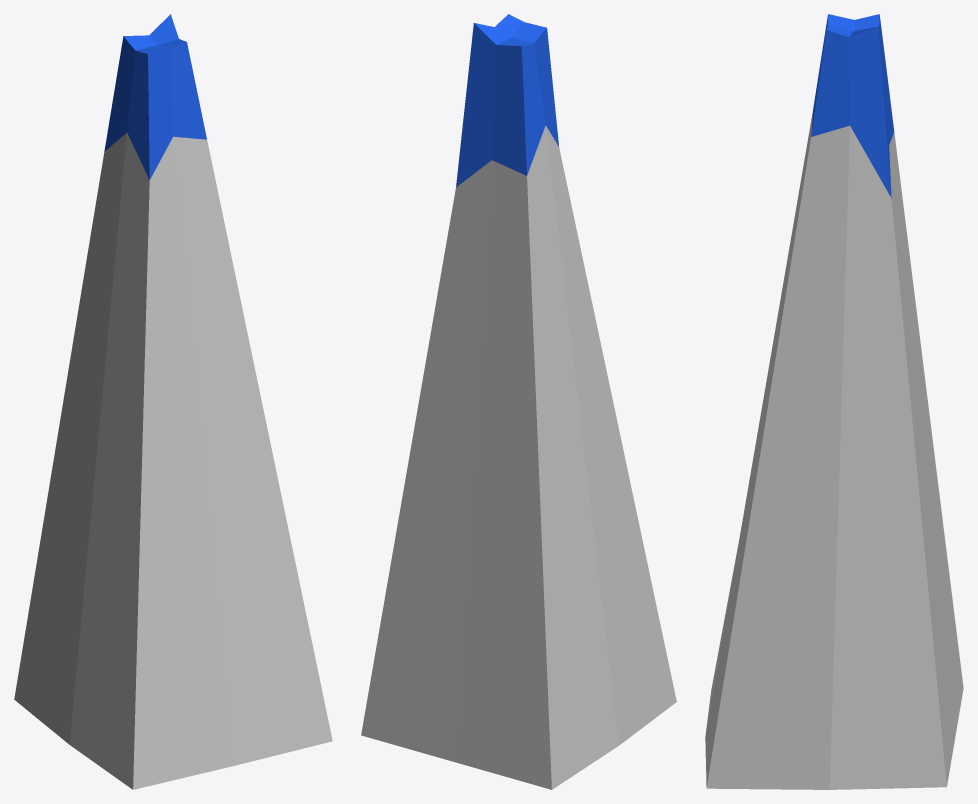
Rendered from mountain2.fbx.
3 views of the same model, side by side, from view 1: azimuth 30°, elevation 25°; view 2: azimuth 150°, elevation 25°; view 3: azimuth 270°, elevation 25° (orthographic). The views are drawn at different scales.
Parts seen in each view (by area): view 1: Cube; view 2: Cube; view 3: Cube.
Boxes of the visible parts, bbox=[...] form: Cube: bbox=[14, 14, 332, 789]; Cube: bbox=[361, 14, 676, 789]; Cube: bbox=[705, 14, 963, 789].
Bounding box in the file's own units: 358 × 1149 × 372.
